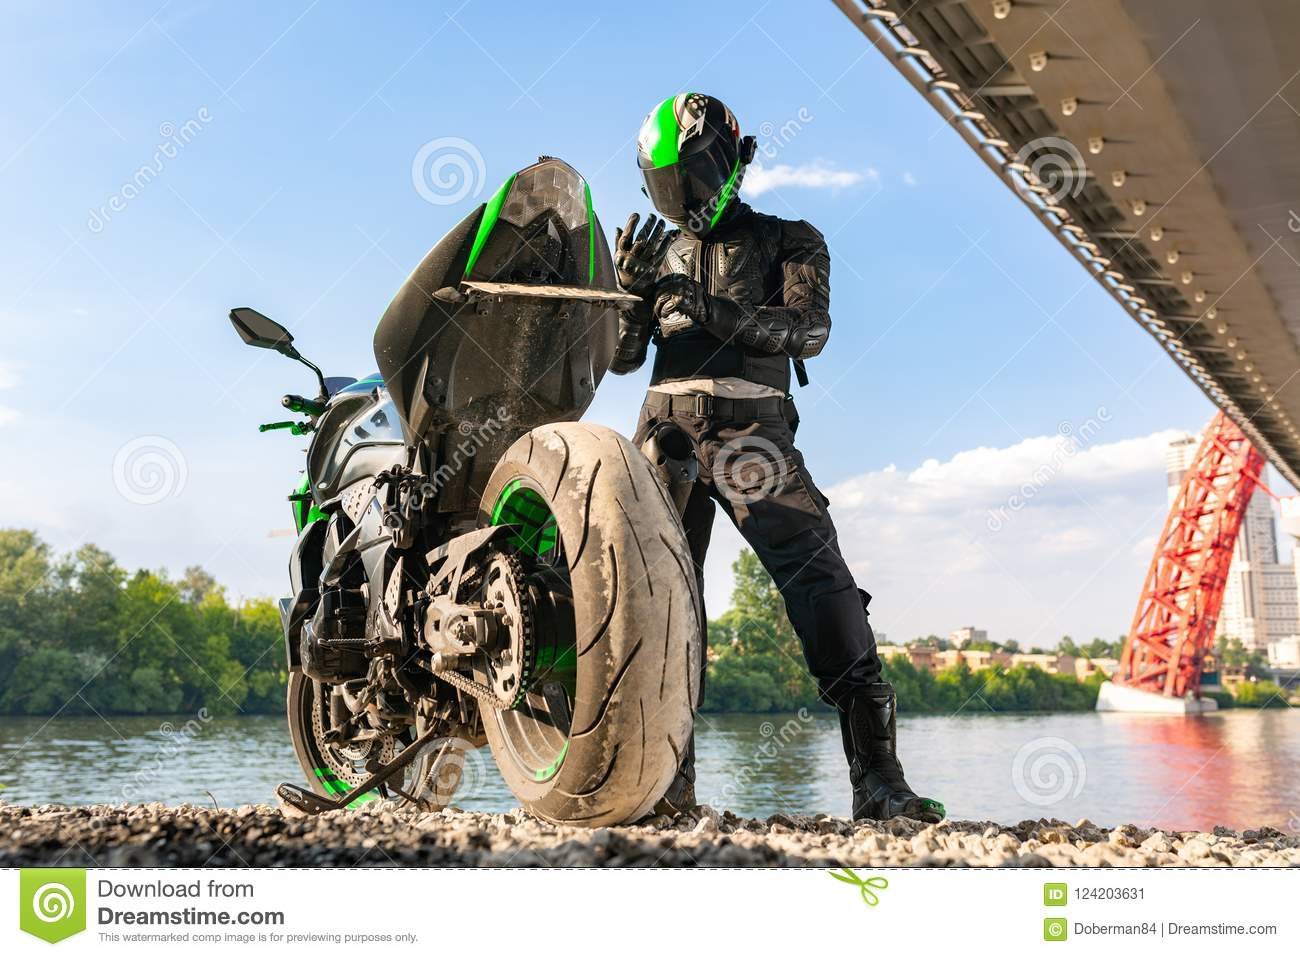helmet: (635, 92, 748, 216)
